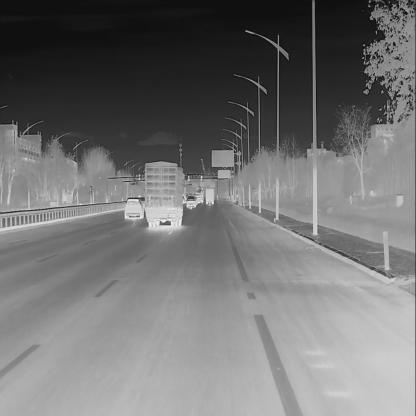car: (124, 196, 143, 218), (186, 195, 196, 209), (192, 193, 201, 204)
truck: (145, 161, 185, 228), (204, 187, 214, 205), (196, 187, 204, 204)
